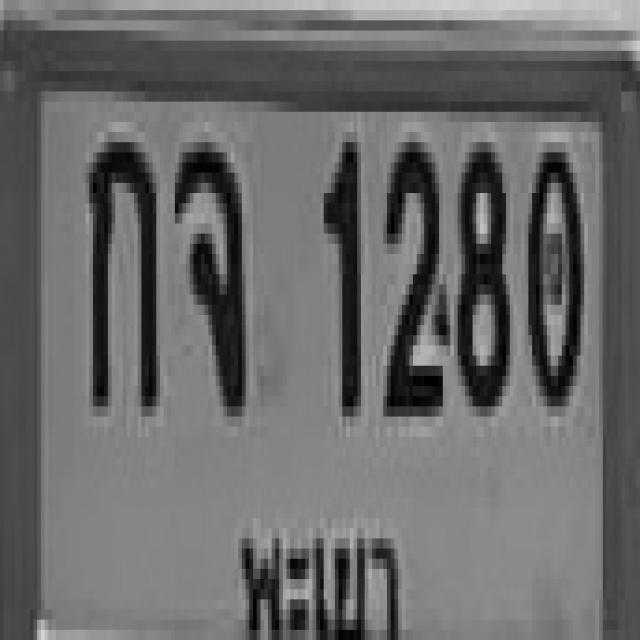0: (524, 142, 580, 396)
1: (320, 132, 357, 406)
10GorGai: (86, 132, 156, 406)
17ChorChan: (171, 132, 242, 406)
2: (379, 132, 443, 406)
8: (454, 132, 506, 406)
Phayao: (230, 508, 406, 640)
